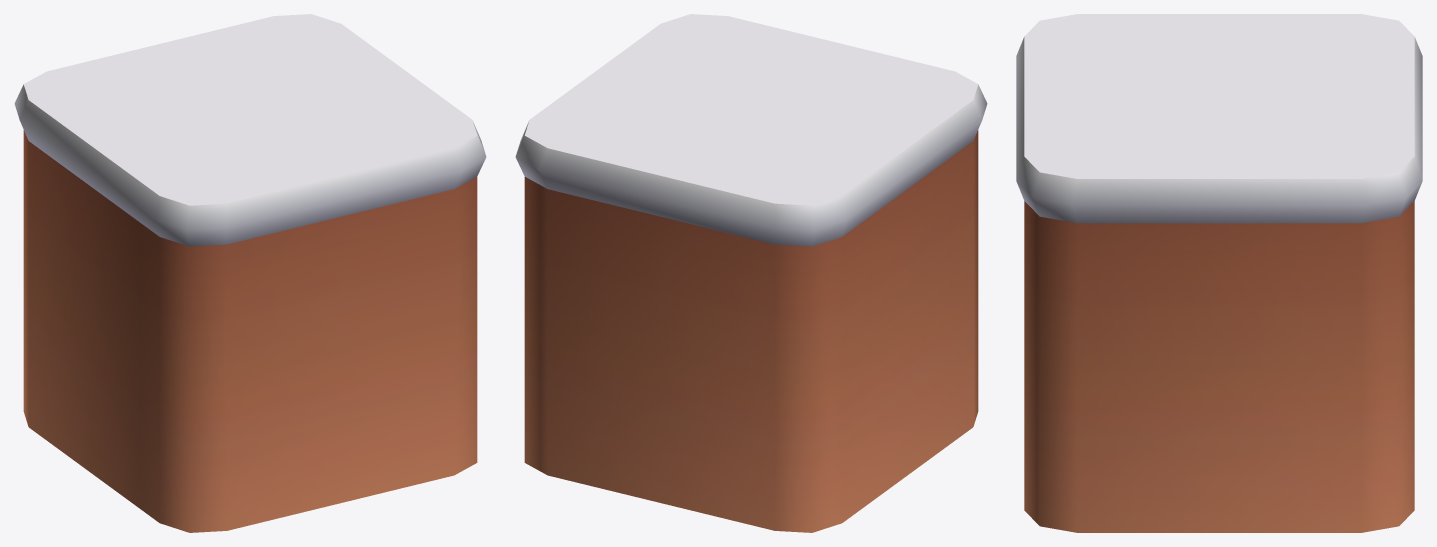
Rendered from kenney-platformer-block-snow-large-tall.glb.
The picture shows the model from 3 angles, left to right: view 1: azimuth 30°, elevation 25°; view 2: azimuth 150°, elevation 25°; view 3: azimuth 270°, elevation 25°; orthographic projection. The views are drawn at different scales.
Parts seen in each view (by area): view 1: block-snow-large-tall; view 2: block-snow-large-tall; view 3: block-snow-large-tall.
Boxes of the visible parts, x1,y1,x2,y2 form: block-snow-large-tall: (14,14,486,532); block-snow-large-tall: (515,14,987,532); block-snow-large-tall: (1016,14,1422,532).
Bounding box in the file's own units: 2.08 × 2 × 2.08.
1 material, 1 textured.
